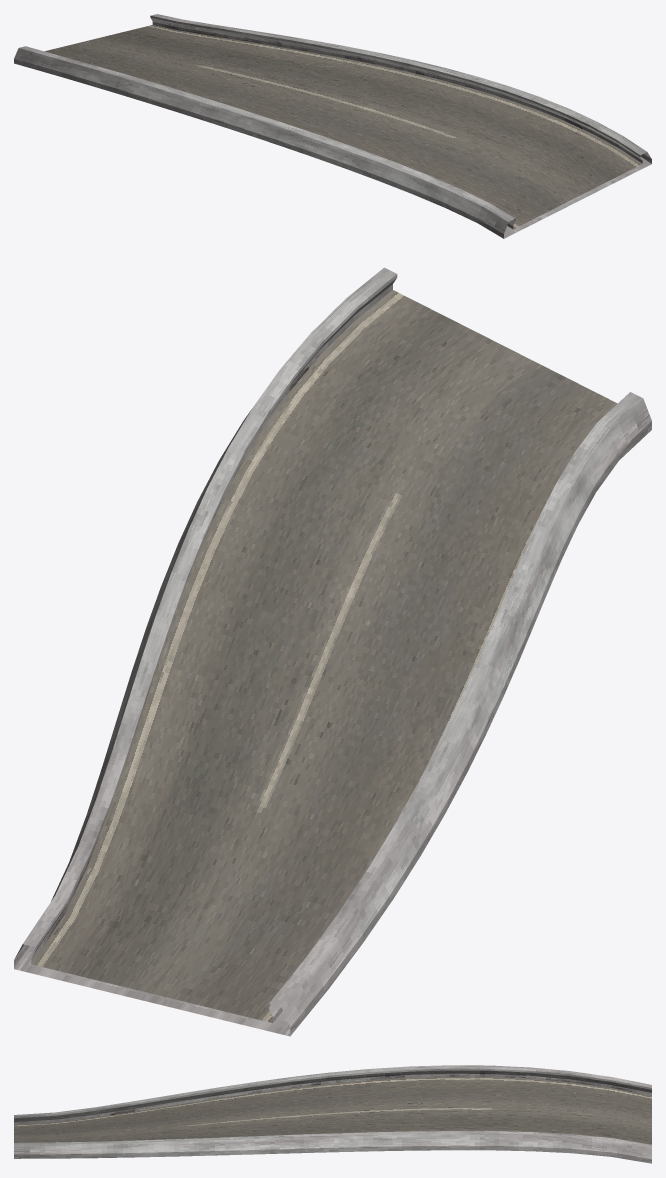
File: chicane-left1x4.glb
3 renders of one model, top to bottom at view 1: azimuth 30°, elevation 25°; view 2: azimuth 150°, elevation 25°; view 3: azimuth 270°, elevation 25°, orthographic. The views are drawn at different scales.
Visible parts, largest first — view 1: road-Chicane-HalfBankedLeft-BiSlopeDown-Down1-Left1-Size4; view 2: road-Chicane-HalfBankedLeft-BiSlopeDown-Down1-Left1-Size4; view 3: road-Chicane-HalfBankedLeft-BiSlopeDown-Down1-Left1-Size4.
Boxes of the visible parts, bbox=[...] form: road-Chicane-HalfBankedLeft-BiSlopeDown-Down1-Left1-Size4: bbox=[14, 14, 651, 238]; road-Chicane-HalfBankedLeft-BiSlopeDown-Down1-Left1-Size4: bbox=[14, 267, 651, 1036]; road-Chicane-HalfBankedLeft-BiSlopeDown-Down1-Left1-Size4: bbox=[14, 1065, 651, 1163].
Size of the model in its own units: 2 by 0.5859 by 4.
2 materials, 2 textured.
